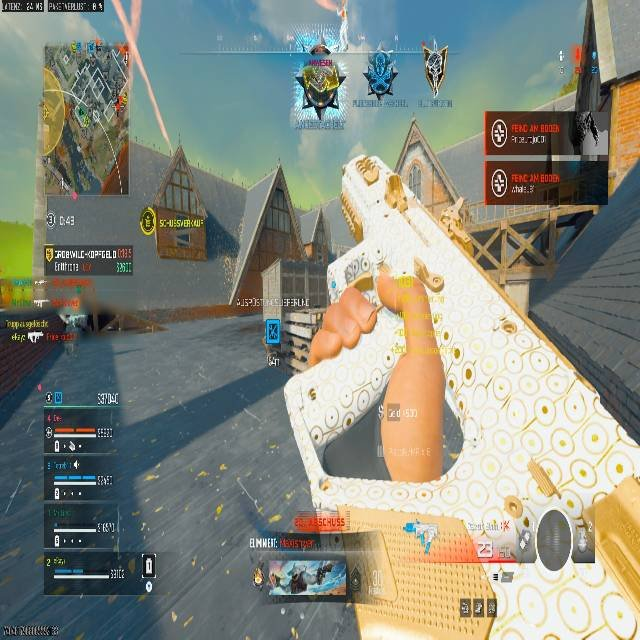head: (373, 53, 387, 69)
player: (291, 169, 453, 486), (297, 45, 344, 118), (363, 53, 399, 99)
